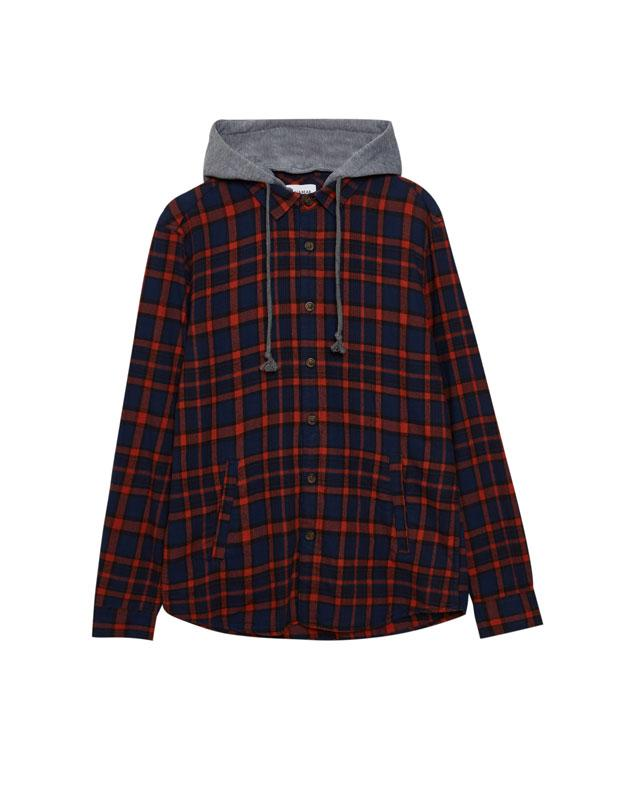teeshirt: (91, 113, 557, 650)
